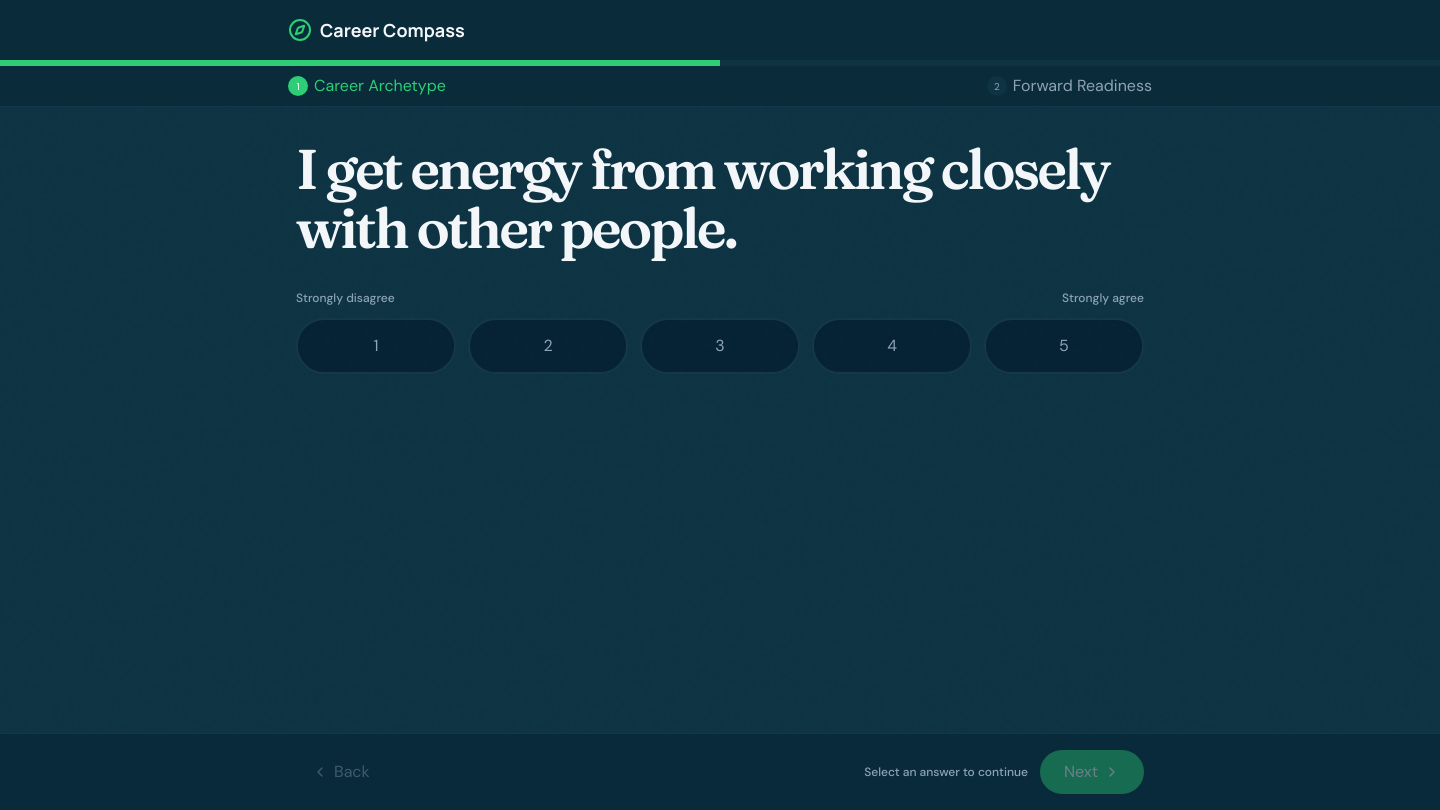
Test: CareerCompassAssessmentPage › retrying after a bootstrap failure re-applies the same held answer
This screenshot has width=1440, height=810.
Click the button "2": (548, 346) [468,318,628,374]
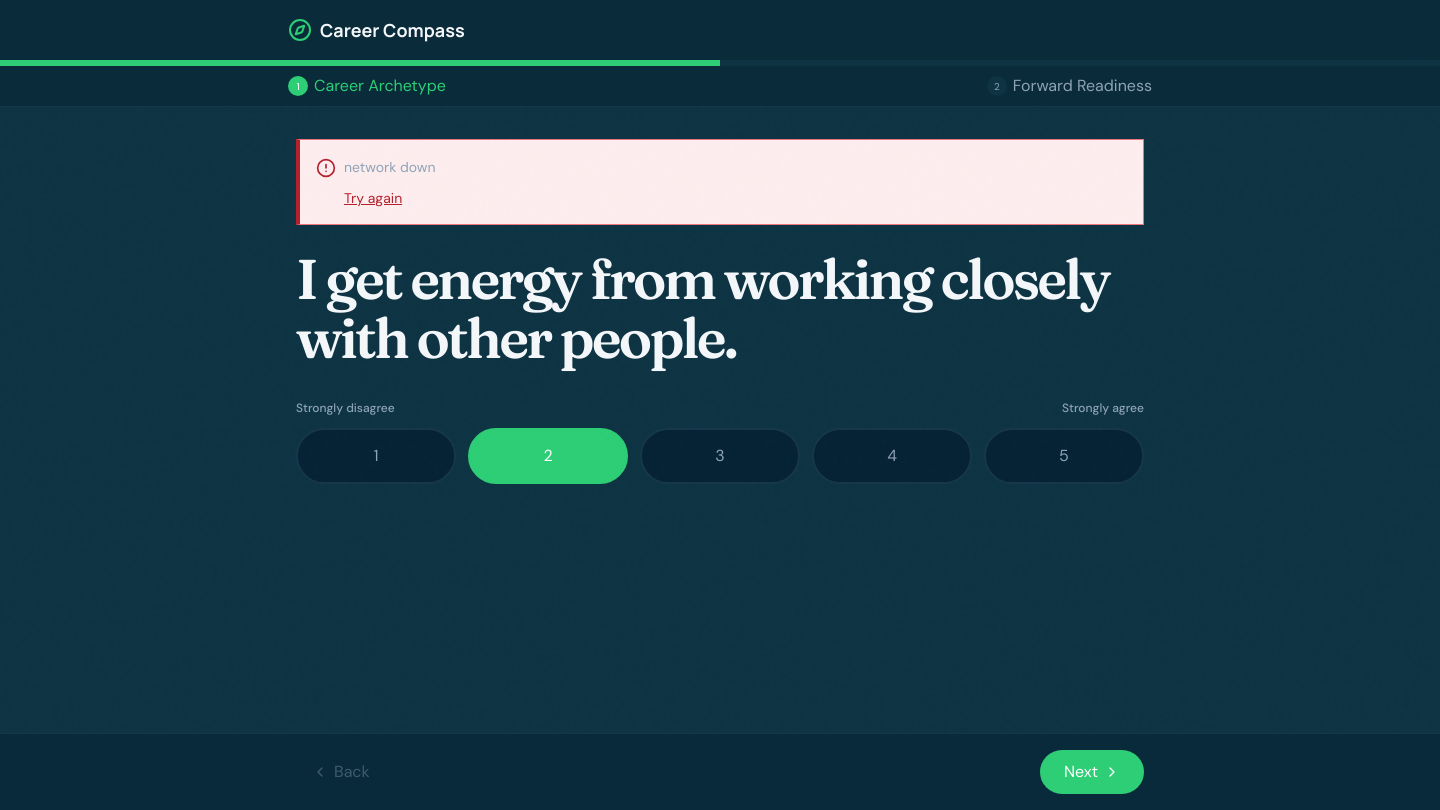
Expected: the text "network down" is shown, [344,156,436,180]
Click the button "Try again": (373, 198) [344,188,402,208]
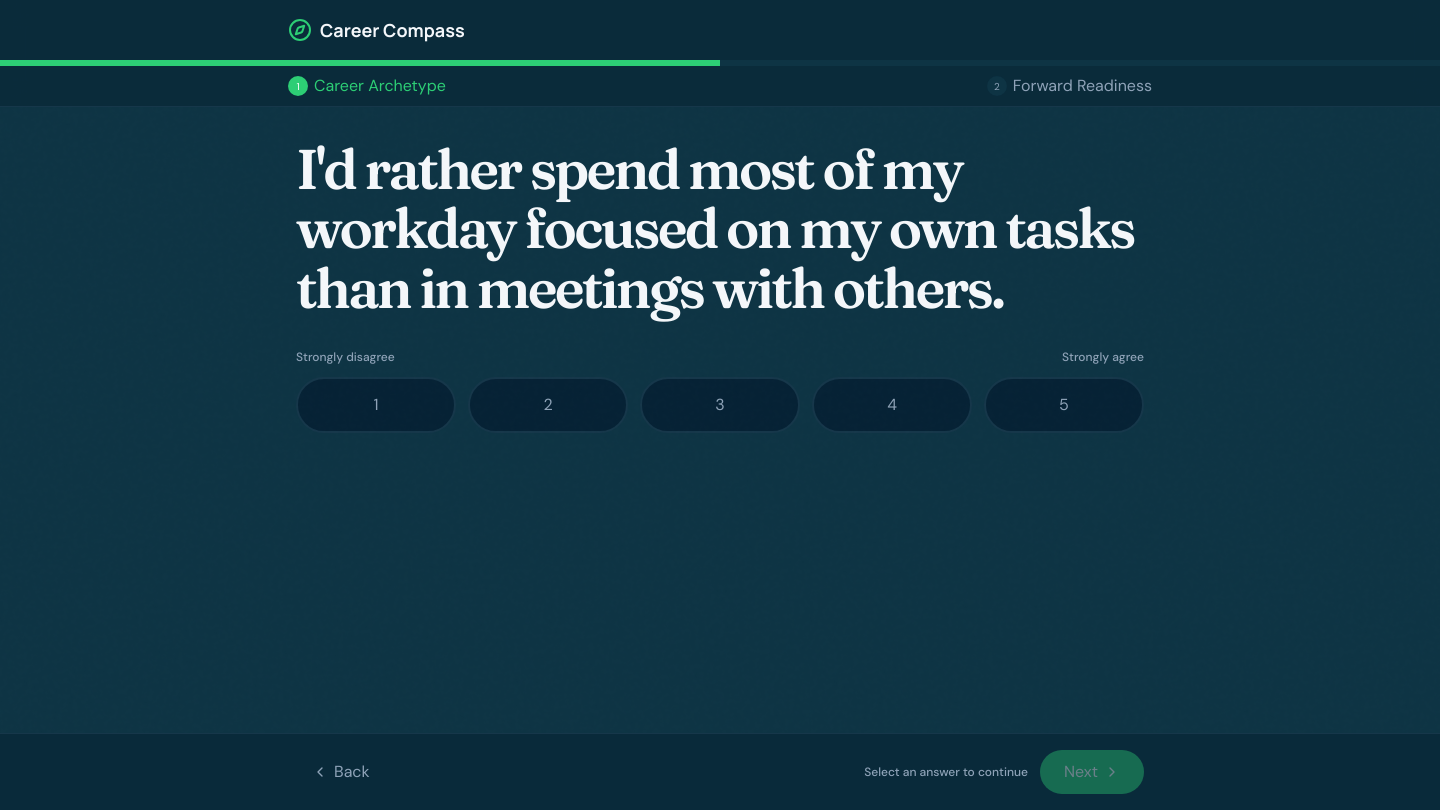
Expected: the heading "I'd rather spend most of my workday focused on my own tasks than in meetings with others." is shown, [296,134,1134,322]
